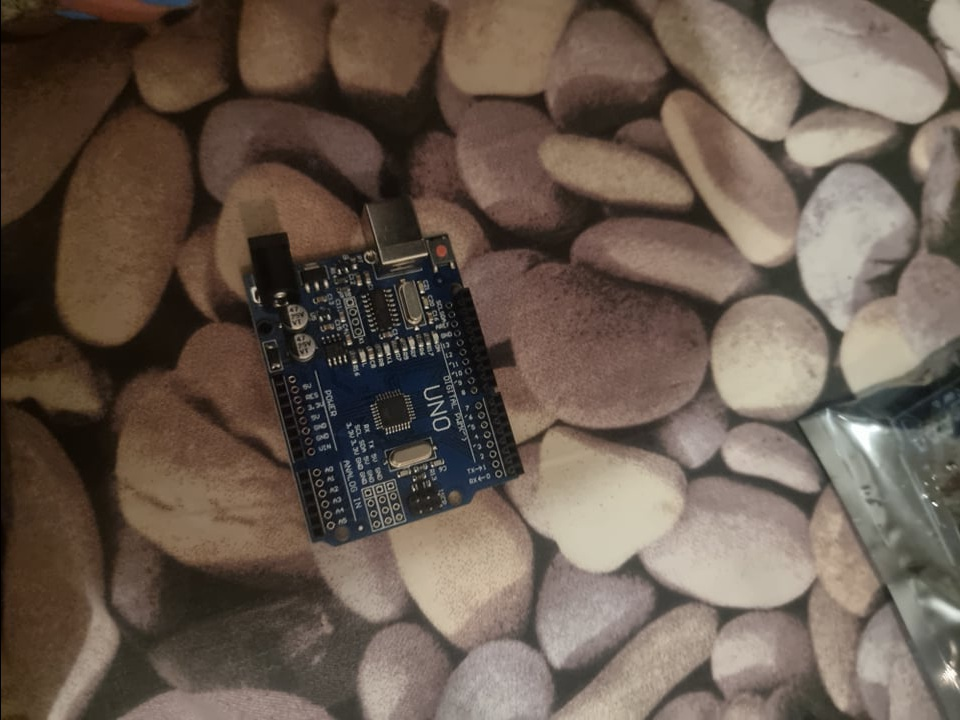UNO R3: (238, 194, 526, 546)
